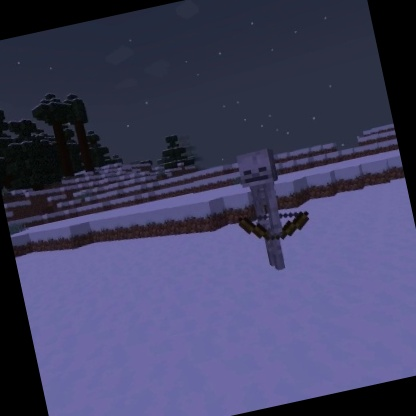skeleton: (221, 138, 322, 280)
